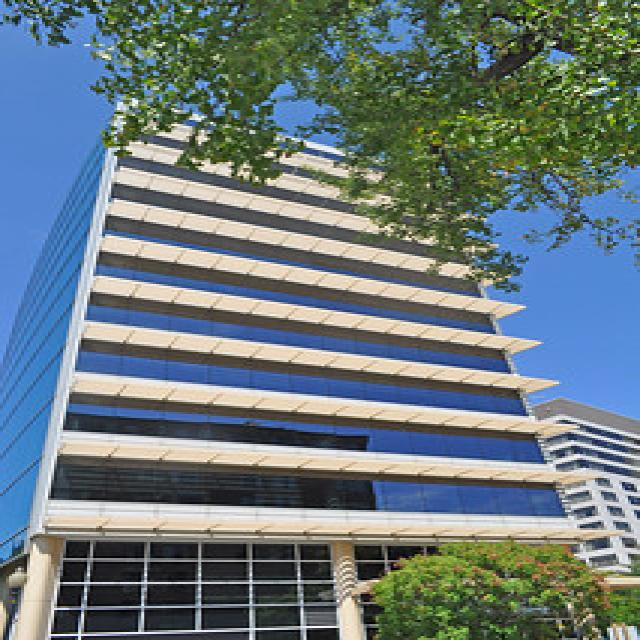building: (3, 96, 607, 640)
